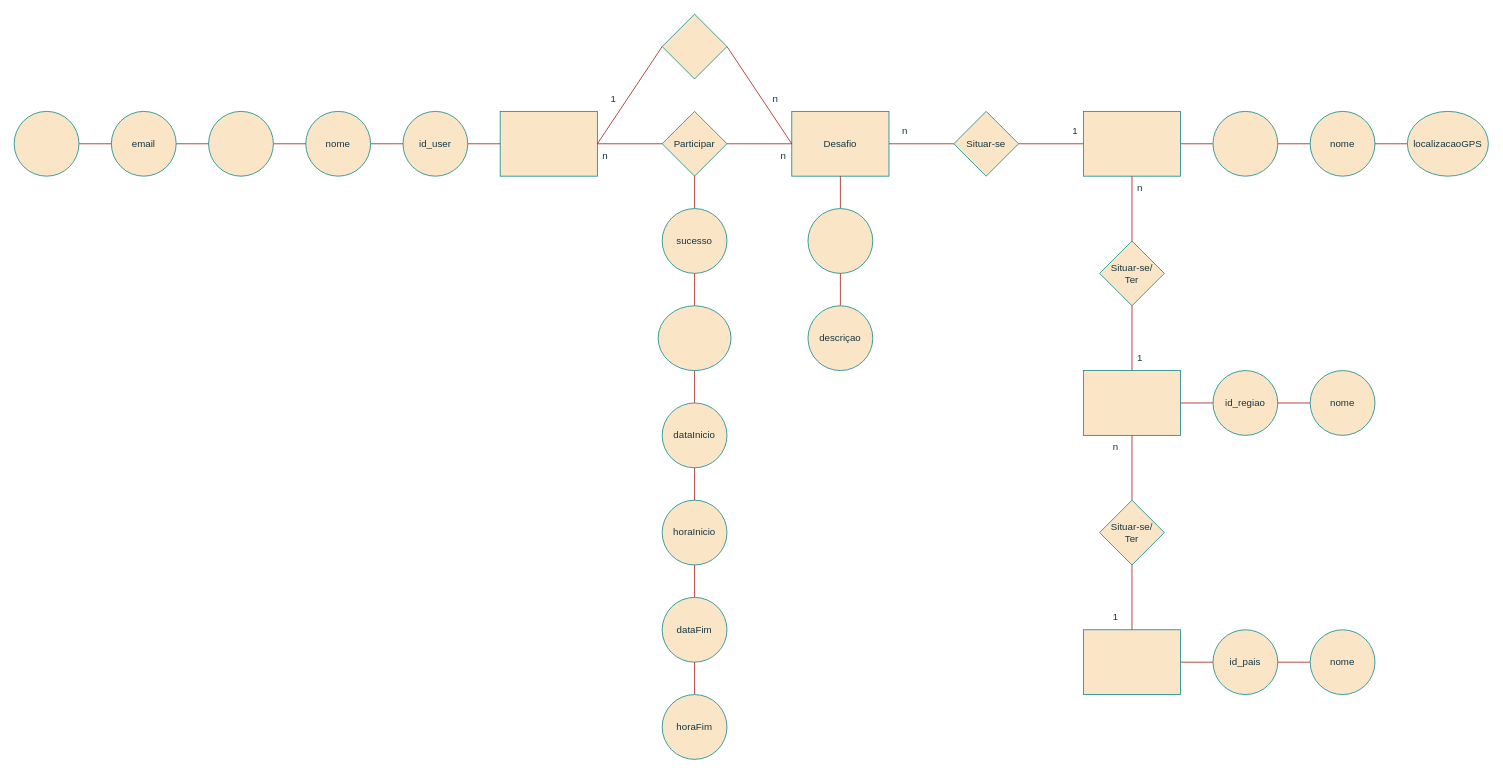
Image size: 1503x774. Some labels were removed from this diagram. The centre of each missing label's shape, as x and y in pixels:
Criar: [694,46]
id_desafio: [840,240]
id_localidade: [1245,143]
idade: [240,143]
Localidade: [1132,143]
País: [1132,662]
Região: [1132,402]
telefone: [46,143]
Utilizador: [548,143]
validarSucesso: [694,338]
